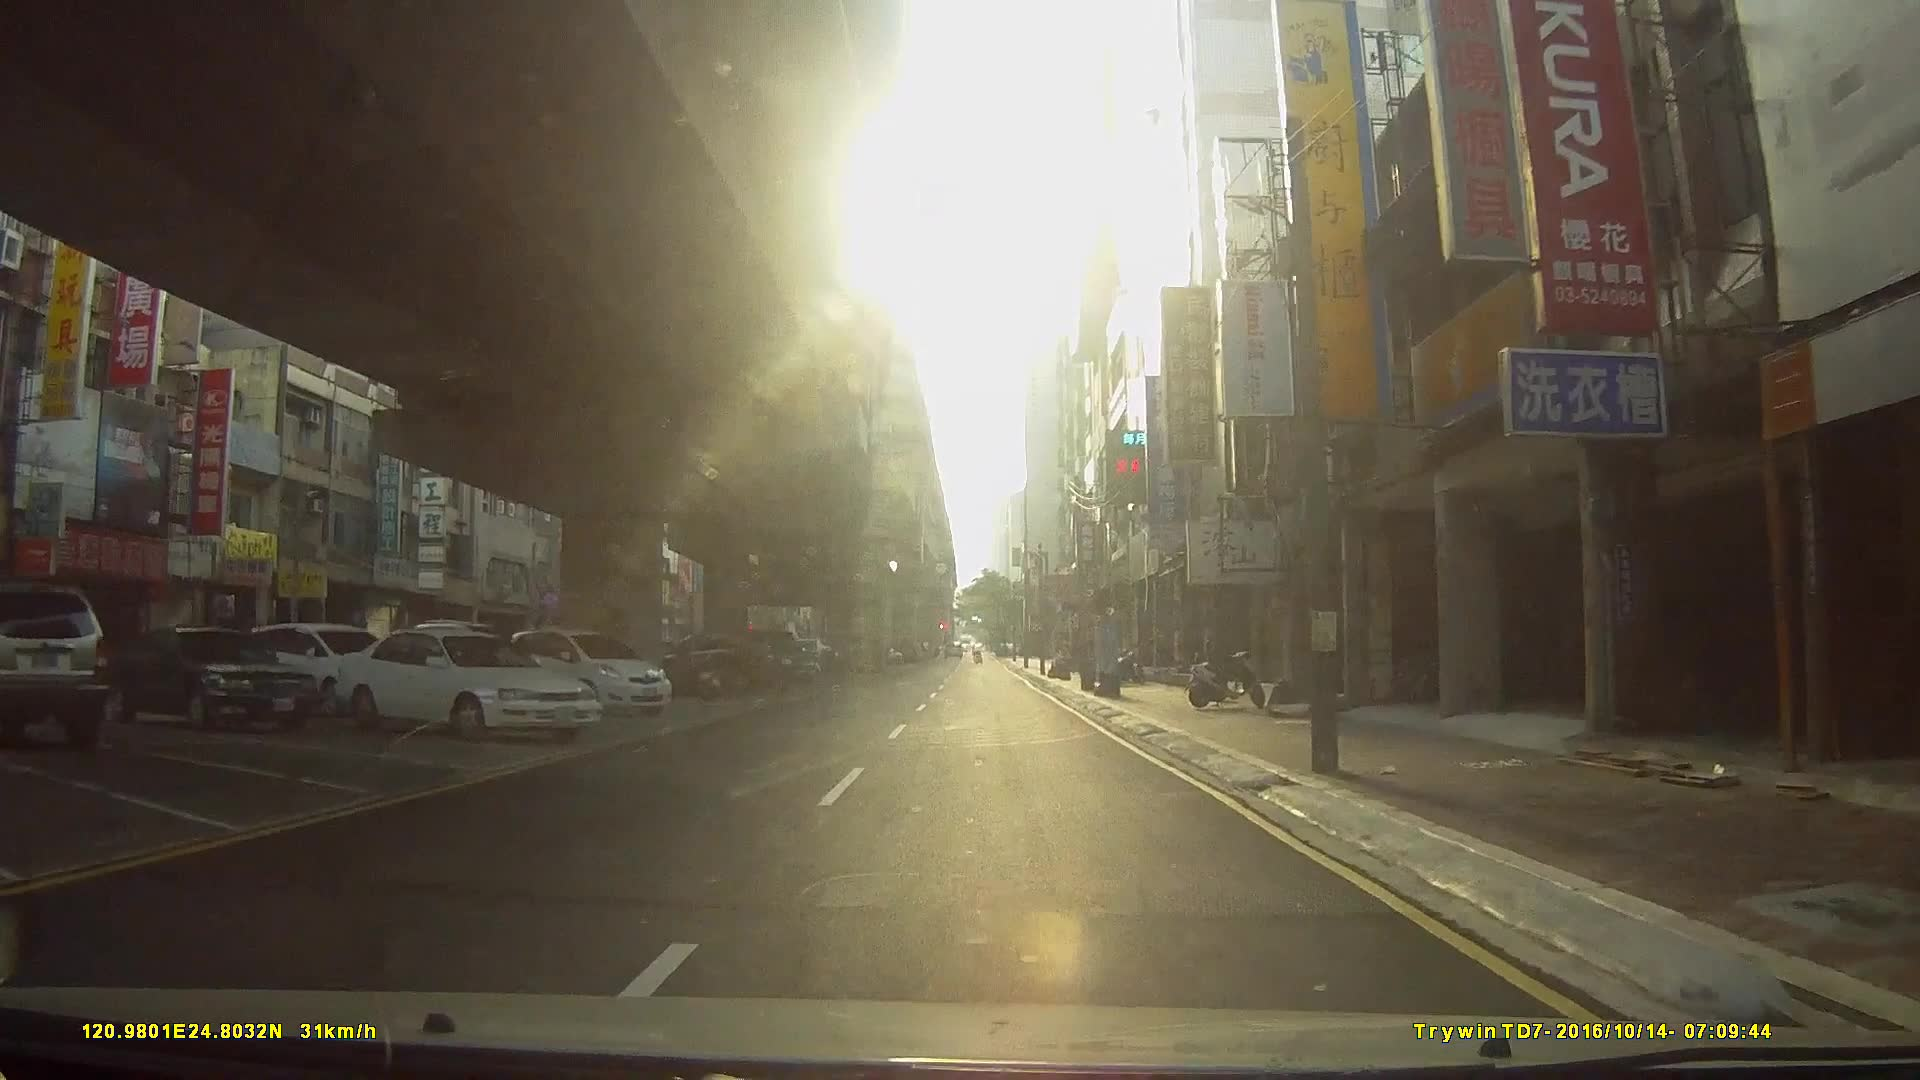vehicle: (330, 625, 601, 741), (94, 625, 320, 729), (0, 580, 107, 744), (501, 625, 671, 717), (240, 621, 393, 713)
